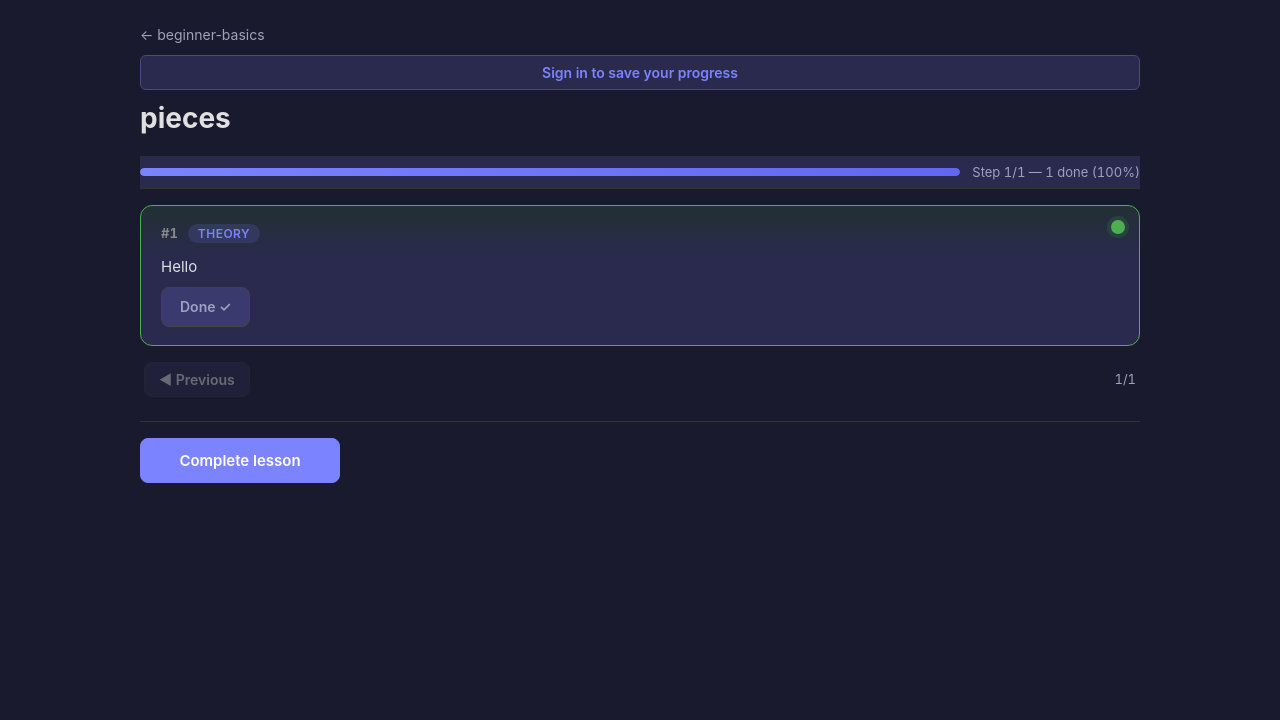
Test: LessonPage review result screen › обычный режим (без ?mode=review) — quality не передаётся
Click the button with test id "lesson-complete-btn". click: (240, 460)
box: [140,438,340,483]
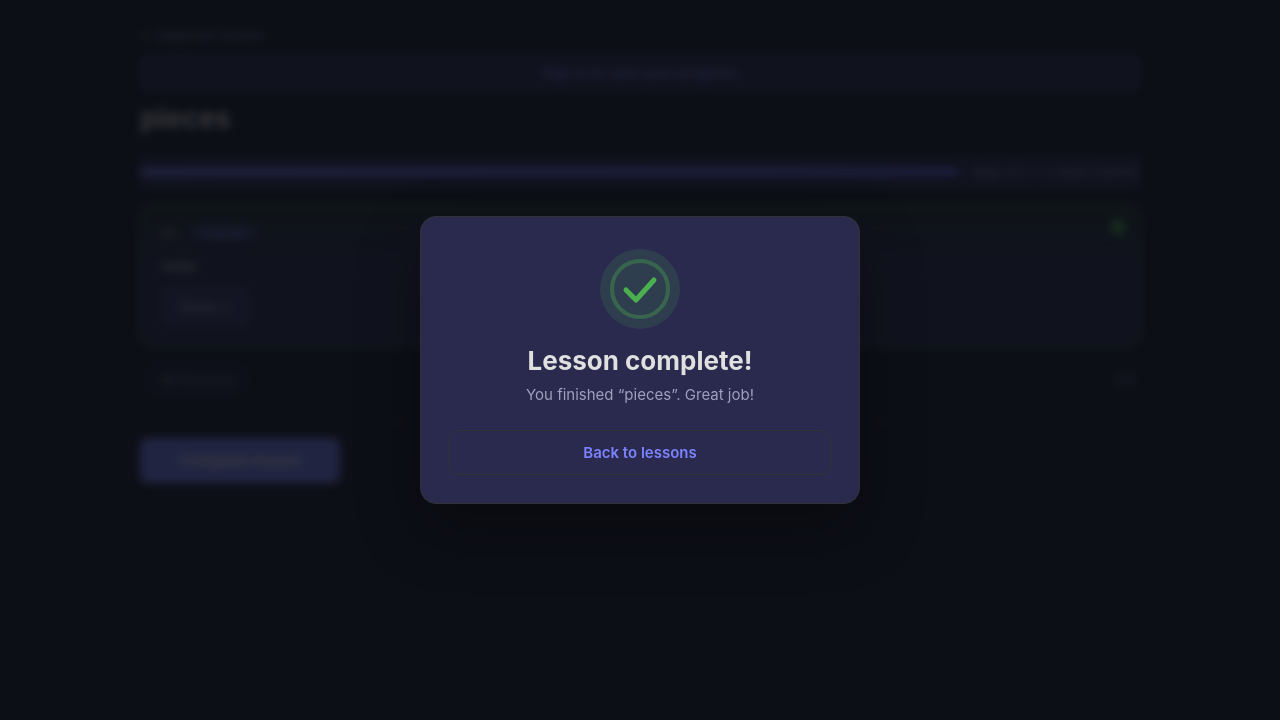
Expected: the dialog with test id "lesson-completion-overlay" is shown
